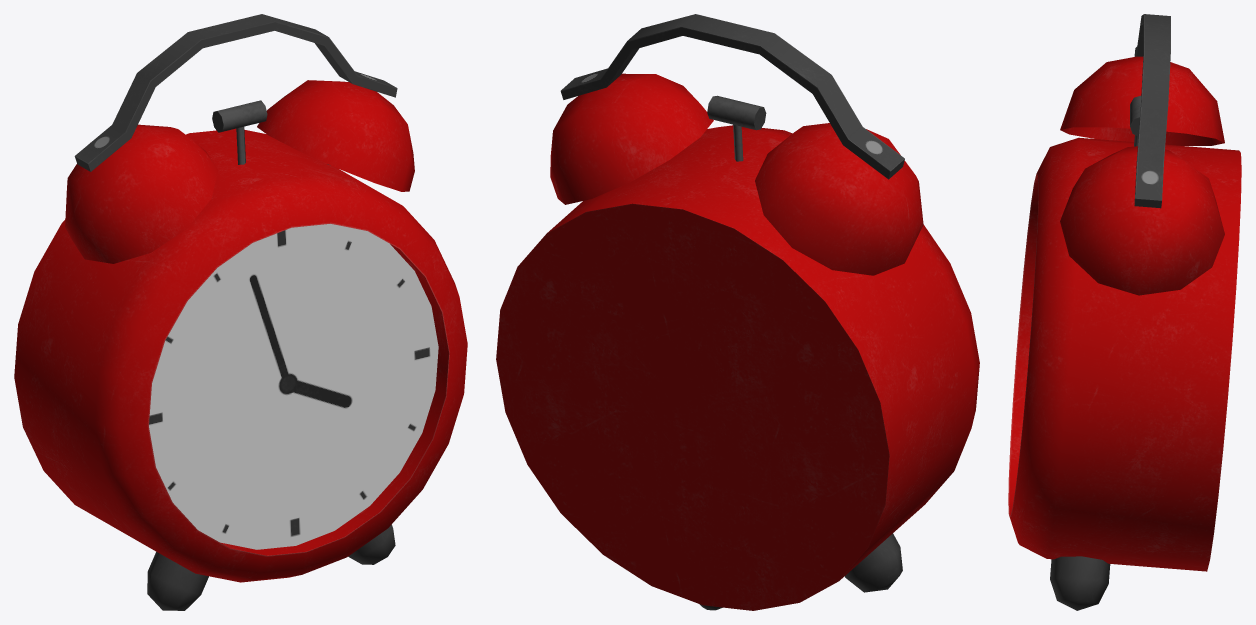
The model's file is Clock.FBX.
3 views of the same model, side by side, from view 1: azimuth 30°, elevation 25°; view 2: azimuth 150°, elevation 25°; view 3: azimuth 270°, elevation 25° (orthographic). The views are drawn at different scales.
Parts seen in each view (by area): view 1: Clock; view 2: Clock; view 3: Clock.
Part boxes in pixels (<box>): Clock: <box>14,14,467,610</box>; Clock: <box>496,14,979,610</box>; Clock: <box>1008,14,1241,610</box>.
Bounding box in the file's own units: 66.16 × 91.26 × 36.41.
